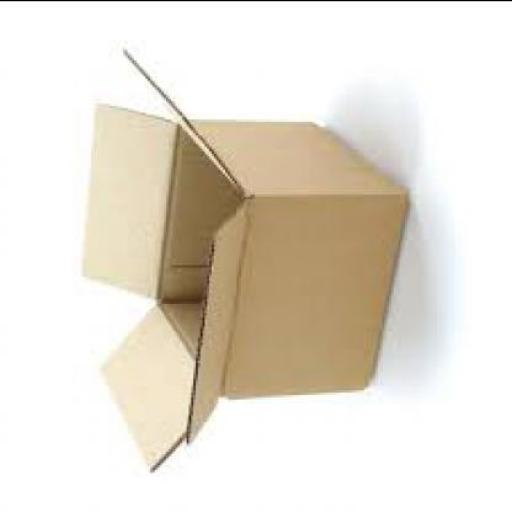cardboard: (78, 50, 408, 471)
